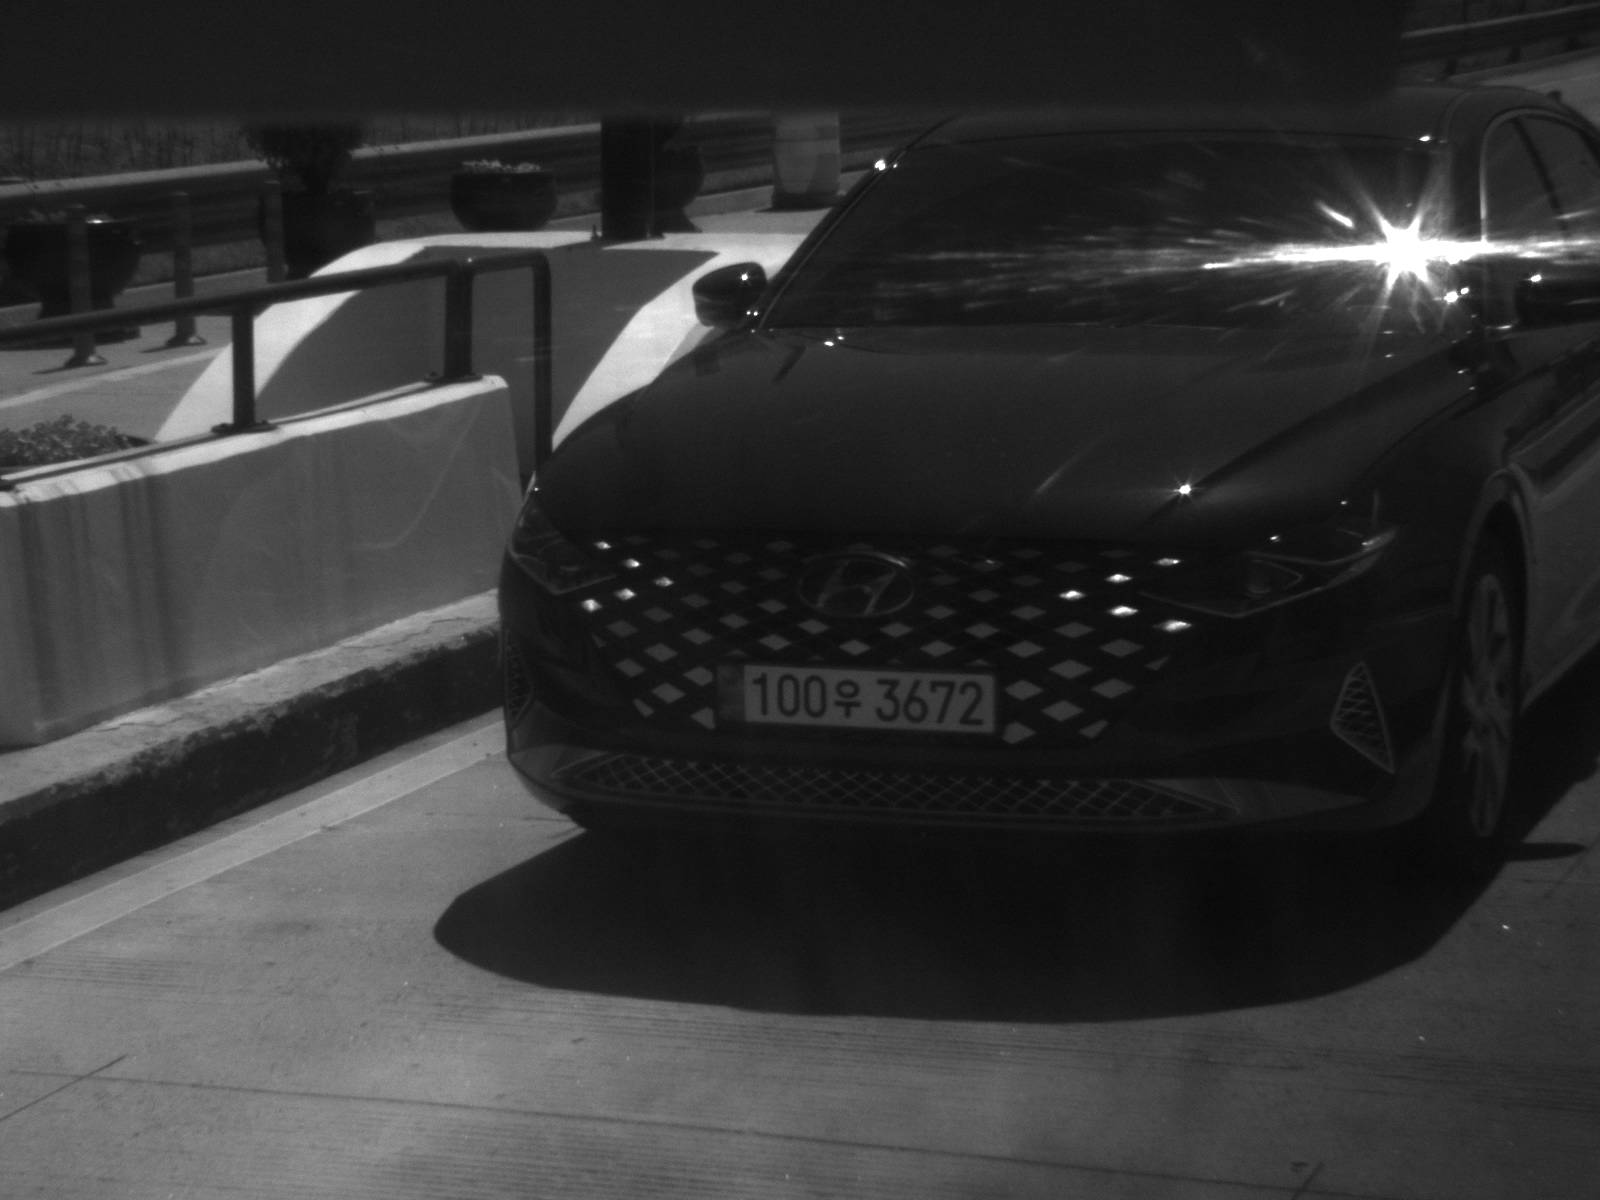car: (499, 58, 1595, 903)
plate: (711, 655, 1009, 745)
